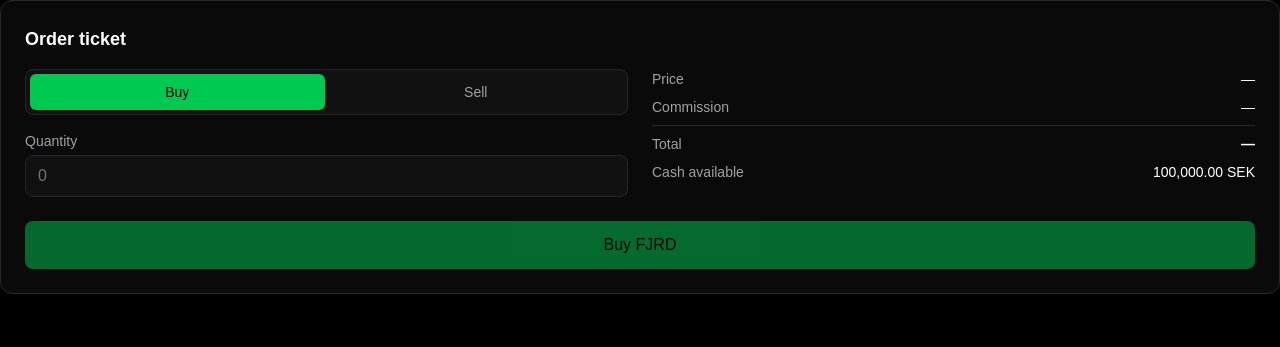
Test: OrderTicket › shows 422 INSUFFICIENT_SHARES as "You don't own enough shares to sell." inline and as an error toast
Expected: the button "Buy FJRD" is shown, [25,221,1255,269]
Step 1. Type "10" into the number field labelled "Quantity" → [326, 176], box [25,155,628,197]
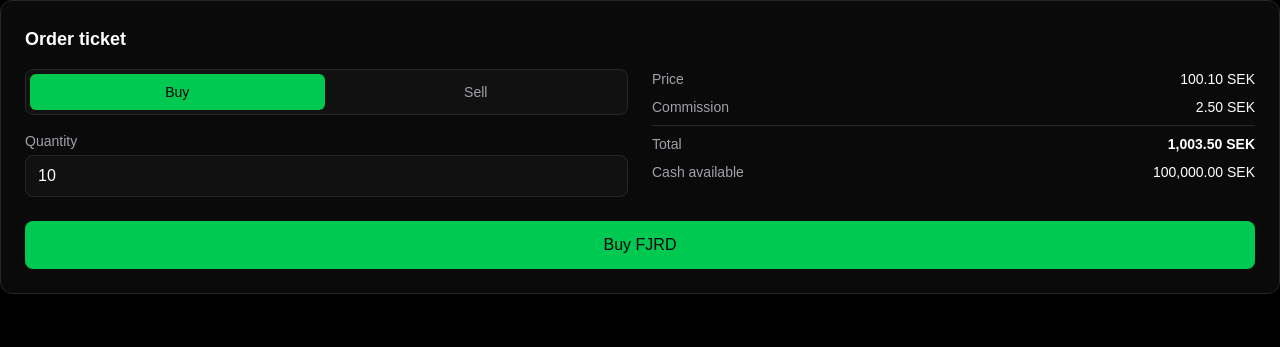
Step 2. Click the button "Buy FJRD" → [640, 245], box [25,221,1255,269]
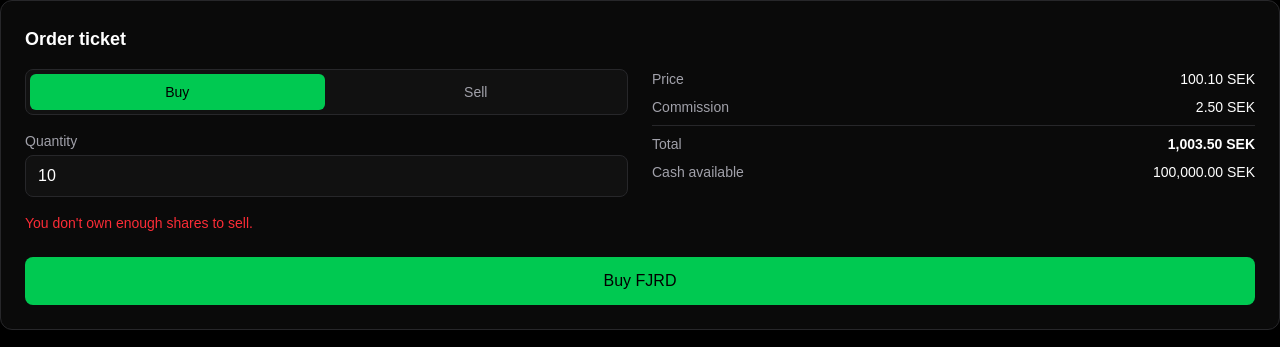
Result: the button "Buy FJRD" is enabled at [25,257,1255,305]
Result: the message reads "You don't own enough shares to sell." at [25,215,253,231]
